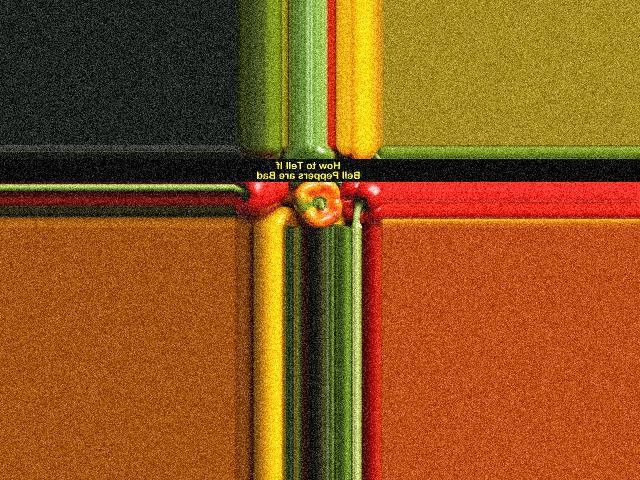bell_pepper: (337, 178, 380, 228)
